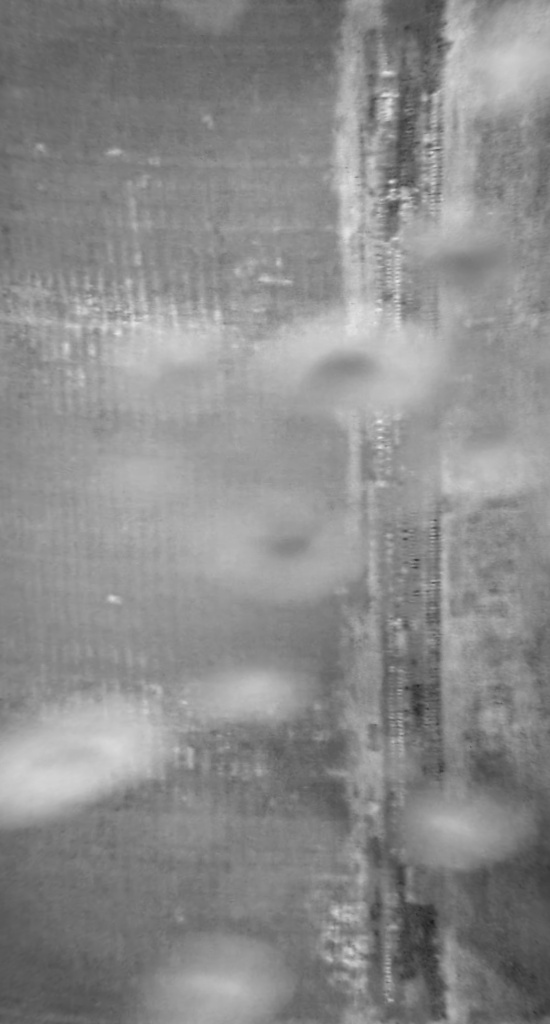splice: (352, 1, 455, 1024)
